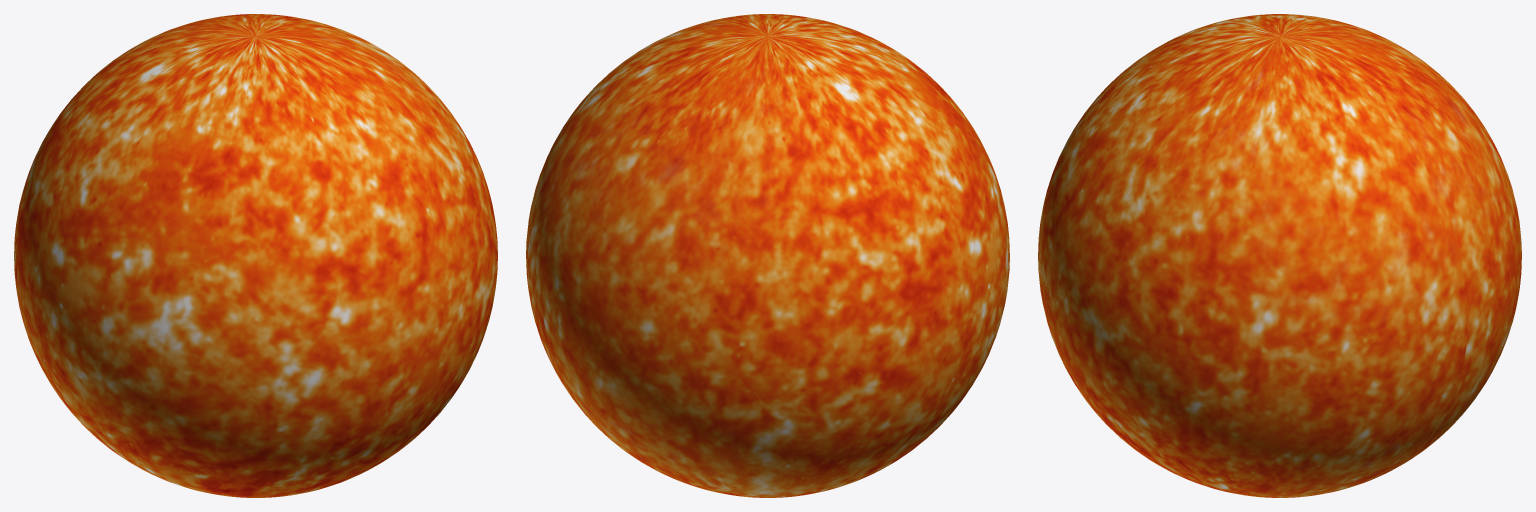
Rendered from sun1.FBX.
3 views of the same model, side by side, from view 1: azimuth 30°, elevation 25°; view 2: azimuth 150°, elevation 25°; view 3: azimuth 270°, elevation 25° (orthographic).
Visible parts, largest first — view 1: Atmosphere; view 2: Atmosphere; view 3: Atmosphere.
Part boxes in pixels (x1=…): Atmosphere: x1=14, y1=14, x2=497, y2=497; Atmosphere: x1=526, y1=14, x2=1009, y2=497; Atmosphere: x1=1038, y1=14, x2=1521, y2=497.
Bounding box in the file's own units: 148 × 148 × 148.
1 material, 1 textured.
